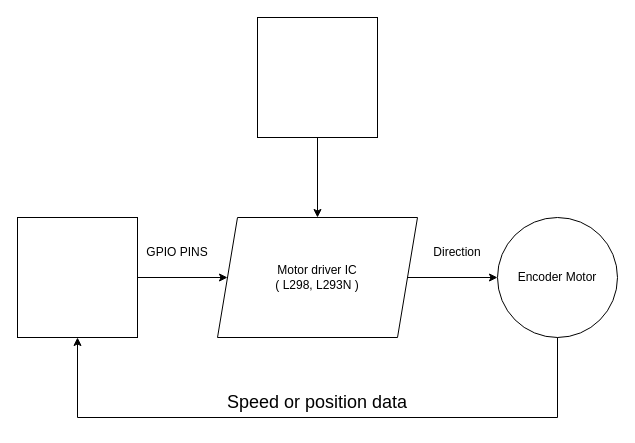
Some shapes in this 635 by 443 pixel diagram are drawn without their labels. Here are the shapes that lost their labels. From the top down, the centre of each, then its label:
point (317, 77): Power supply ( 5 - 12 V )
point (77, 277): Micro-controller
